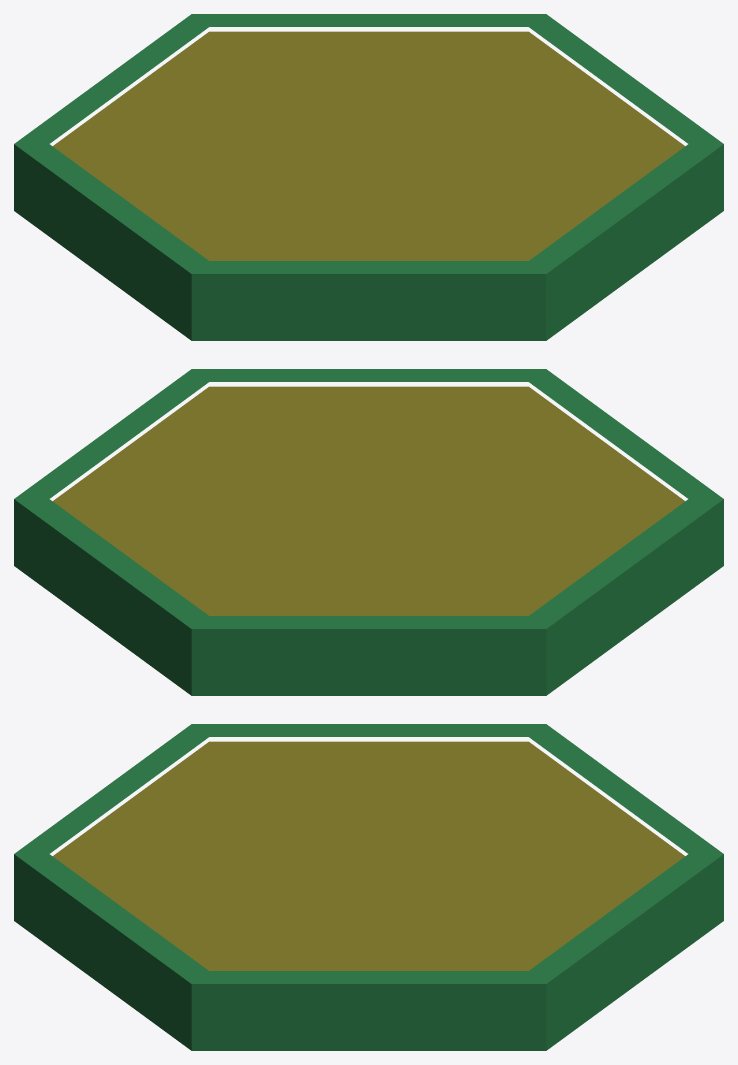
The model's file is SM_HexTile_Home.glb.
The picture shows the model from 3 angles, top to bottom: view 1: azimuth 30°, elevation 25°; view 2: azimuth 150°, elevation 25°; view 3: azimuth 270°, elevation 25°; orthographic projection.
Visible parts, largest first — view 1: SM_HexTile_Home; view 2: SM_HexTile_Home; view 3: SM_HexTile_Home.
Part boxes in pixels (x1,y1,x2,y2): SM_HexTile_Home: (14, 14, 723, 340); SM_HexTile_Home: (14, 369, 723, 695); SM_HexTile_Home: (14, 724, 723, 1050).
Bounding box in the file's own units: 1 × 0.12 × 1.15.
